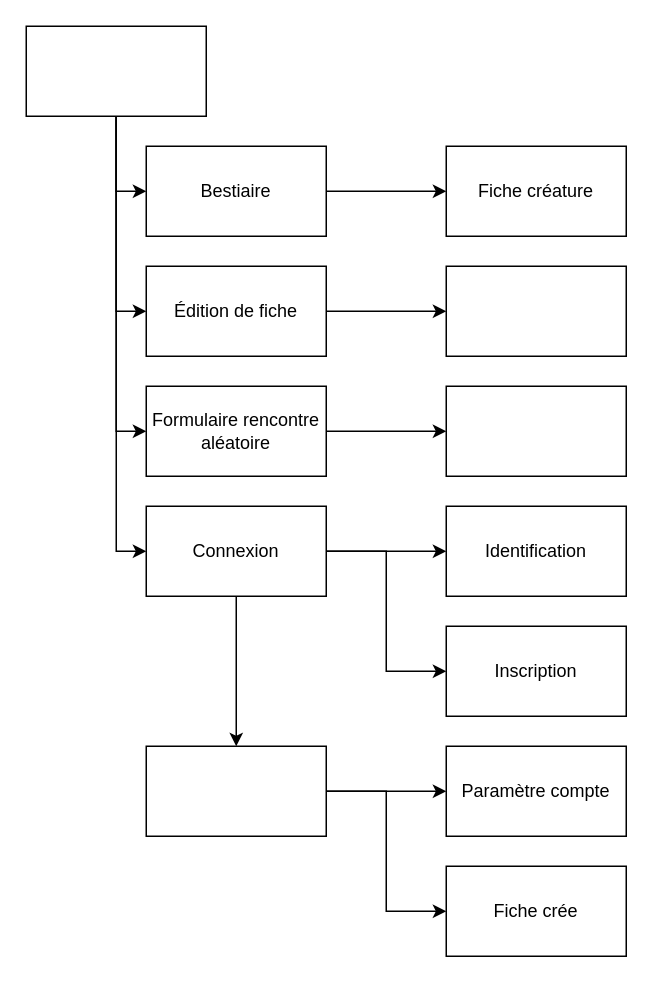
This 653x983 diagram has some shape labels left out. Here are the shapes that lost their labels. From the top down, the centre of each, then its label:
point 115,70: Accueil
point 535,310: Fiche créature créé
point 535,430: Résultat rencontre aléatoire
point 235,790: Compte
